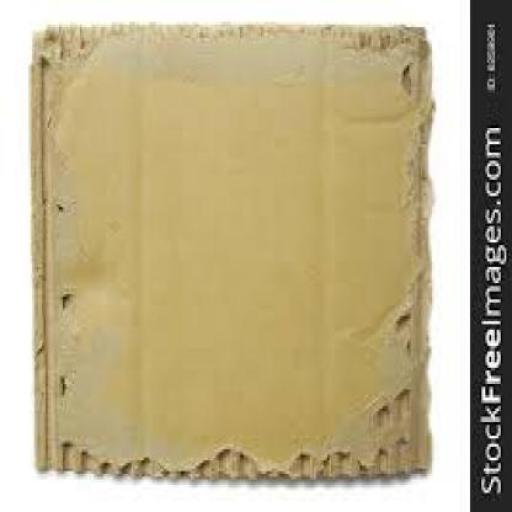cardboard: (28, 22, 431, 480)
